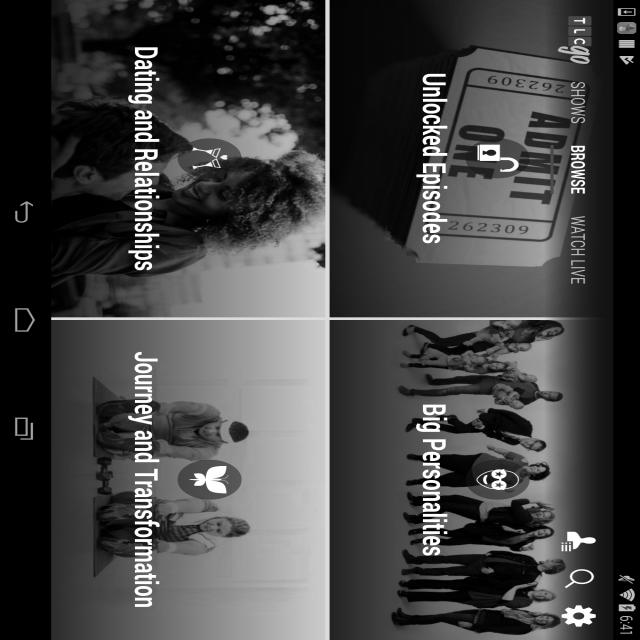ImageView: (0, 17, 508, 194), (0, 197, 508, 374), (512, 17, 640, 194), (512, 197, 640, 374), (26, 25, 113, 51), (231, 75, 276, 103), (231, 255, 276, 283)
TextView: (74, 289, 434, 321), (116, 109, 391, 141), (328, 17, 472, 60), (215, 17, 327, 60), (113, 17, 215, 60), (562, 289, 640, 321)
